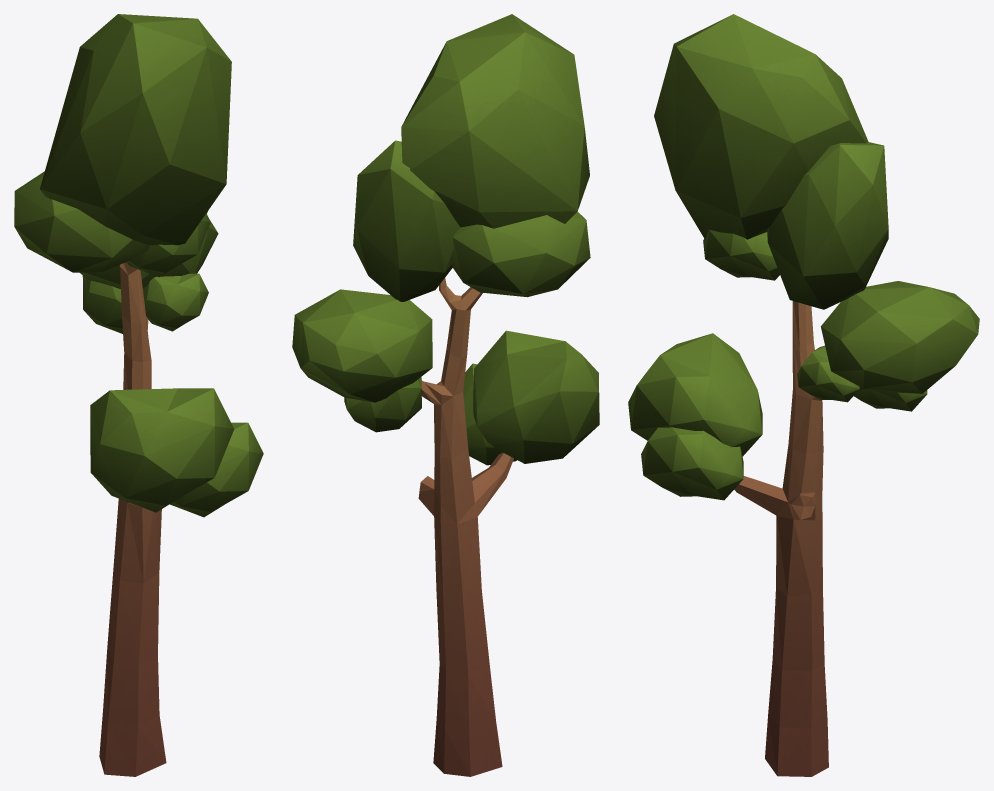
Rendered from ZLP_Plant_E_3.FBX.
3 views of the same model, side by side, from view 1: azimuth 30°, elevation 25°; view 2: azimuth 150°, elevation 25°; view 3: azimuth 270°, elevation 25° (orthographic). The views are drawn at different scales.
Visible parts, largest first — view 1: ZLP_Plant_E_3; view 2: ZLP_Plant_E_3; view 3: ZLP_Plant_E_3.
Part boxes in pixels (x1,y1,x2,y2): ZLP_Plant_E_3: (14, 14, 263, 776); ZLP_Plant_E_3: (292, 14, 599, 776); ZLP_Plant_E_3: (628, 14, 979, 776).
Size of the model in its own units: 240 by 727 by 315.
